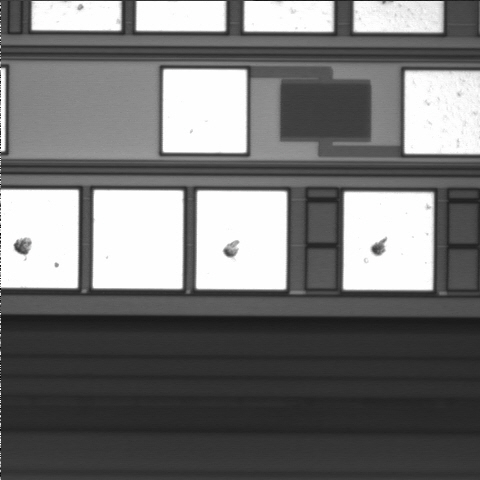pad: (196, 191, 287, 289), (343, 192, 434, 290), (93, 190, 183, 289), (163, 69, 247, 153)
